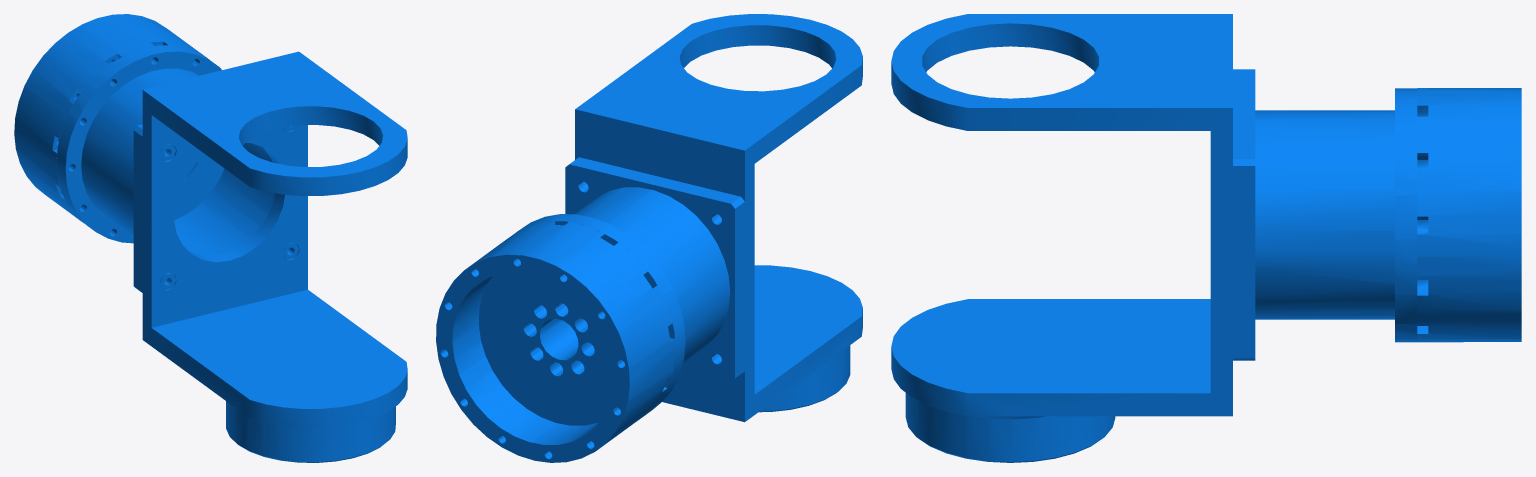
The model's file is body.dae.
The picture shows the model from 3 angles, left to right: view 1: azimuth 30°, elevation 25°; view 2: azimuth 150°, elevation 25°; view 3: azimuth 270°, elevation 25°; orthographic projection. The views are drawn at different scales.
Visible parts, largest first — view 1: right_body_link5; view 2: right_body_link5; view 3: right_body_link5.
Boxes of the visible parts, <box> form: right_body_link5: <box>14,14,407,462</box>; right_body_link5: <box>436,14,862,462</box>; right_body_link5: <box>891,14,1521,462</box>.
Size of the model in its own units: 0.08 by 0.1245 by 0.1983.
